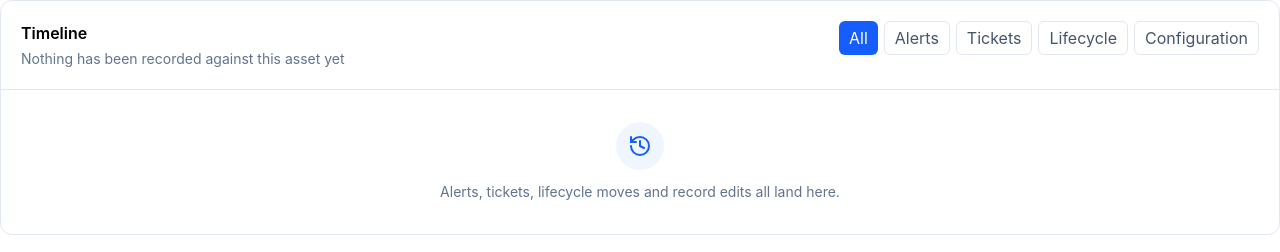
Scenario: CiTimelinePanel › distinguishes an empty filter result from an asset with no history
The image size is (1280, 252).
Expected: the text "Nothing has been recorded against this asset yet" is shown, [21,49,344,69]
Expected: the text "Alerts, tickets, lifecycle moves and record edits all land here" is shown, [440,183,840,200]
Click the button "Alerts". click: click(917, 38)
box: [884,21,950,55]
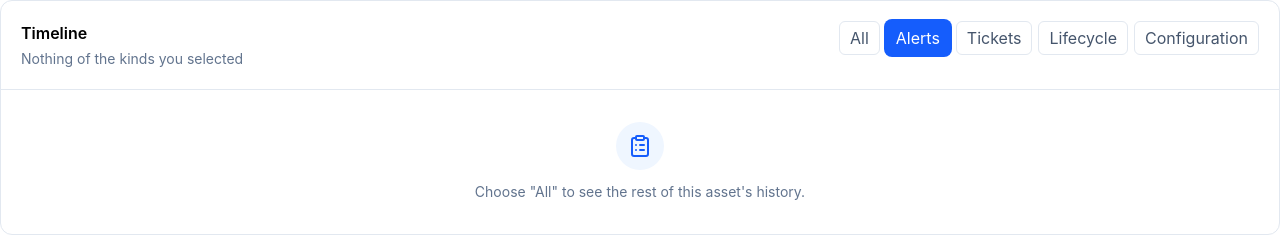
Expected: the text "Nothing of the kinds you selected" is shown, [21,49,243,69]
Expected: the text "Choose \"All\" to see the rest of this asset's history." is shown, [475,182,805,202]
